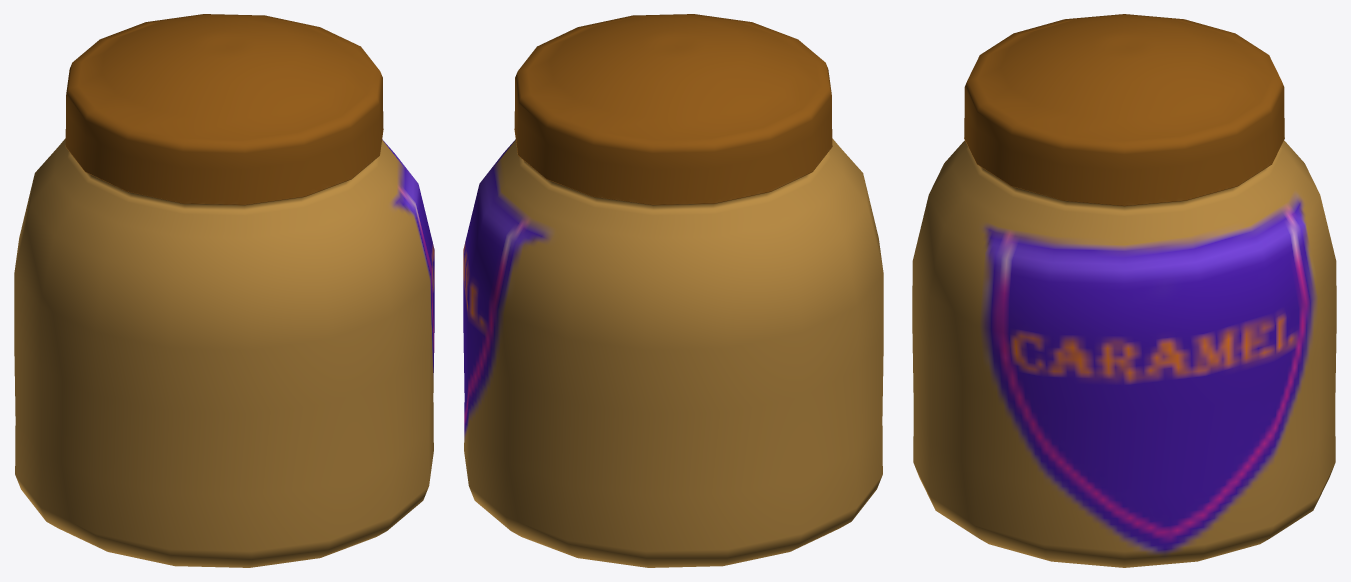
The model's file is Caramel Glass Container.fbx.
The picture shows the model from 3 angles, left to right: view 1: azimuth 30°, elevation 25°; view 2: azimuth 150°, elevation 25°; view 3: azimuth 270°, elevation 25°; orthographic projection.
Visible parts, largest first — view 1: Caramel_Glass_Container; view 2: Caramel_Glass_Container; view 3: Caramel_Glass_Container.
Part boxes in pixels (x1,y1,x2,y2): Caramel_Glass_Container: (14,14,434,567); Caramel_Glass_Container: (463,14,883,567); Caramel_Glass_Container: (912,14,1336,567).
Bounding box in the file's own units: 12.19 × 14.56 × 12.19.
1 material, 1 textured.
